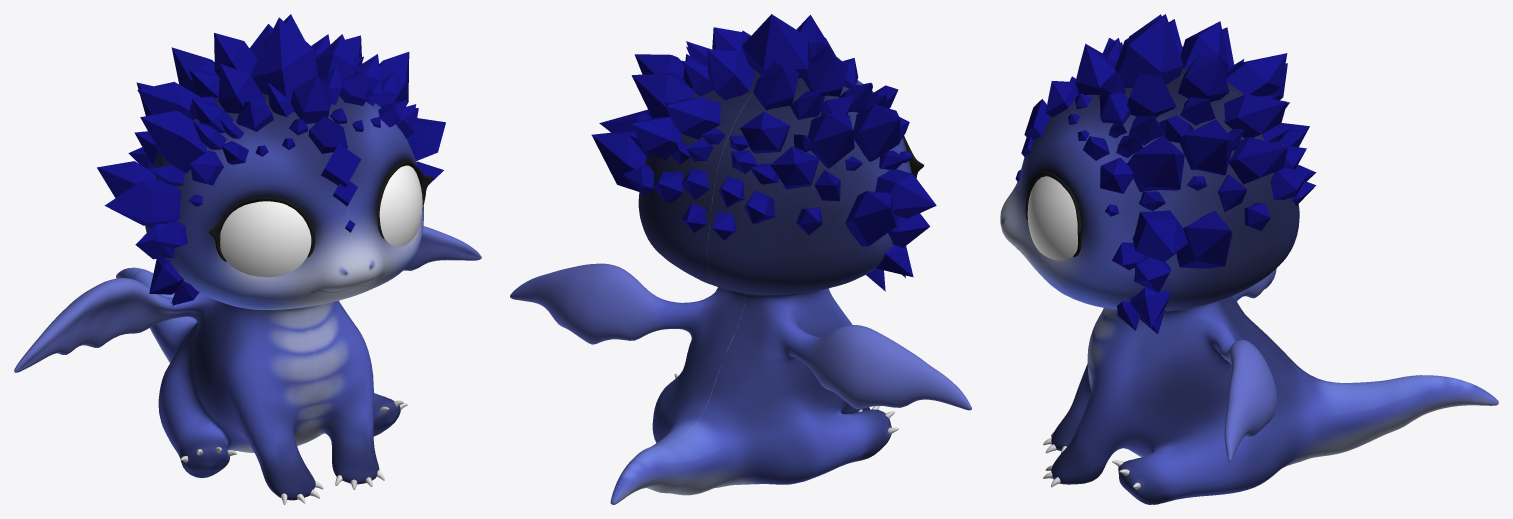
Rendered from proj3_dino.glb.
3 renders of one model, left to right at view 1: azimuth 30°, elevation 25°; view 2: azimuth 150°, elevation 25°; view 3: azimuth 270°, elevation 25°, orthographic. The views are drawn at different scales.
Visible parts, largest first — view 1: Body, Gem crown, Right eye, Left eye, Lashes; view 2: Body, Gem crown; view 3: Body, Gem crown, Left eye, Lashes.
Part boxes in pixels (bbox=[...]): Body: bbox=[14, 93, 481, 504]; Gem crown: bbox=[97, 14, 445, 305]; Right eye: bbox=[220, 201, 311, 277]; Left eye: bbox=[379, 165, 422, 246]; Lashes: bbox=[209, 160, 433, 261]; Body: bbox=[510, 65, 971, 504]; Gem crown: bbox=[591, 14, 936, 291]; Body: bbox=[1000, 67, 1498, 504]; Gem crown: bbox=[1015, 14, 1316, 334]; Left eye: bbox=[1027, 176, 1077, 260]; Lashes: bbox=[1025, 171, 1081, 256].
Bounding box in the file's own units: 1.69 × 1.52 × 1.52.
Materials: 5 (3 with a texture image).
